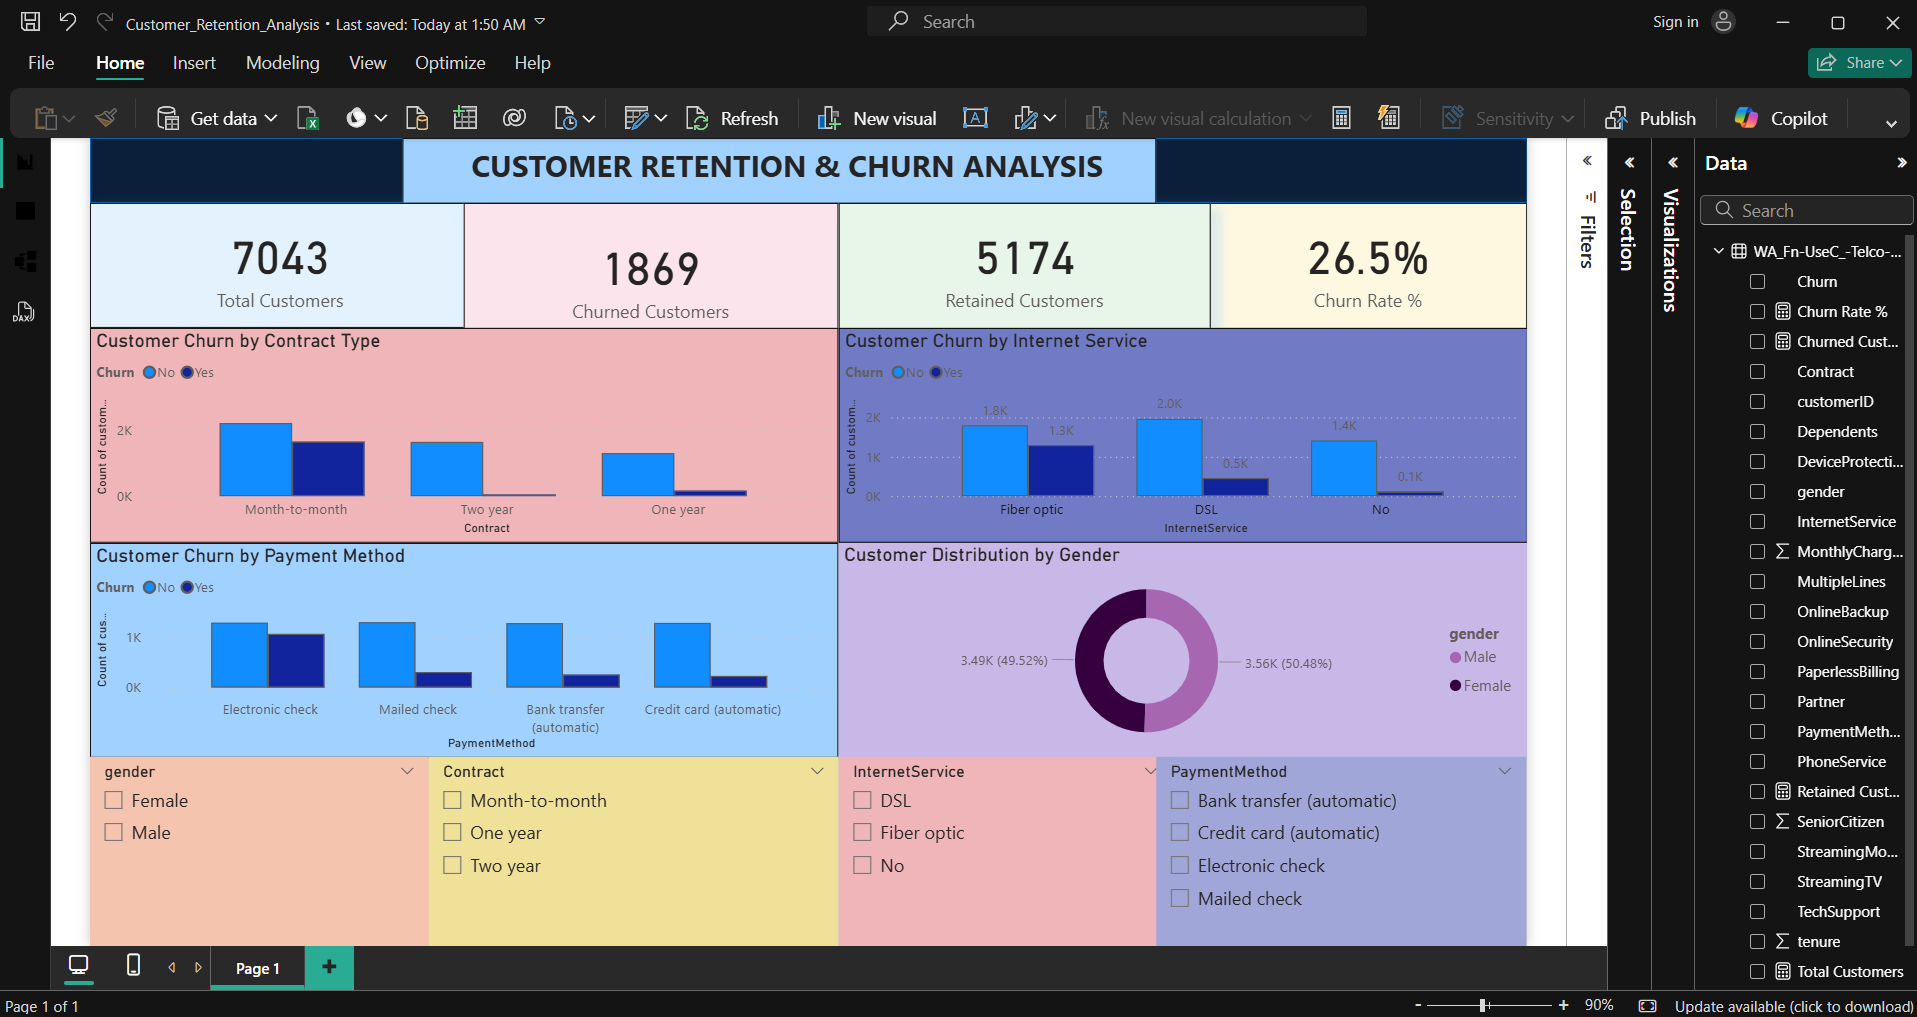

This screenshot's page, from the dashboard's own definition file:
{"tool":"powerbi","page":{"name":"Page 1","canvas":[1280,720],"ordinal":0},"visuals":[{"type":"shape","box":[0,0,1280.2,58.1],"z":0},{"type":"textbox","box":[277.9,0,670.9,58.1],"z":1000},{"type":"card","fields":{"Values":["WA_Fn-UseC_-Telco-Customer-Churn (2).Total Customers"]},"box":[0,57.9,339.5,111.3],"z":2000},{"type":"card","title":" ","fields":{"Values":["WA_Fn-UseC_-Telco-Customer-Churn (2).Churned Customers"]},"box":[332.6,57.6,333.8,111.7],"z":3000},{"type":"card","fields":{"Values":["WA_Fn-UseC_-Telco-Customer-Churn (2).Churn Rate %"]},"box":[997.8,57.6,282.2,111.7],"z":4000},{"type":"card","fields":{"Values":["WA_Fn-UseC_-Telco-Customer-Churn (2).Retained Customers"]},"box":[666.4,57.6,331.4,111.7],"z":5000},{"type":"clusteredColumnChart","title":"Customer Churn by Contract Type","fields":{"Category":["WA_Fn-UseC_-Telco-Customer-Churn (2).Contract"],"Y":["CountNonNull(WA_Fn-UseC_-Telco-Customer-Churn (2).customerID)"],"Series":["WA_Fn-UseC_-Telco-Customer-Churn (2).Churn"]},"box":[0,169.3,666.4,190.9],"z":6000},{"type":"clusteredColumnChart","title":"Customer Churn by Internet Service","fields":{"Category":["WA_Fn-UseC_-Telco-Customer-Churn (2).InternetService"],"Y":["CountNonNull(WA_Fn-UseC_-Telco-Customer-Churn (2).customerID)"],"Series":["WA_Fn-UseC_-Telco-Customer-Churn (2).Churn"]},"box":[666.4,169.3,613.6,190.9],"z":7000},{"type":"clusteredColumnChart","title":"Customer Churn by Payment Method","fields":{"Category":["WA_Fn-UseC_-Telco-Customer-Churn (2).PaymentMethod"],"Y":["CountNonNull(WA_Fn-UseC_-Telco-Customer-Churn (2).customerID)"],"Series":["WA_Fn-UseC_-Telco-Customer-Churn (2).Churn"]},"box":[0,360.2,666.4,190.9],"z":8000},{"type":"donutChart","title":"Customer Distribution by Gender","fields":{"Category":["WA_Fn-UseC_-Telco-Customer-Churn (2).gender"],"Y":["CountNonNull(WA_Fn-UseC_-Telco-Customer-Churn (2).customerID)"]},"box":[666.4,360.2,613.6,190.9],"z":9000},{"type":"slicer","fields":{"Values":["WA_Fn-UseC_-Telco-Customer-Churn (2).gender"]},"box":[0,551,301.7,169.2],"z":10000},{"type":"slicer","fields":{"Values":["WA_Fn-UseC_-Telco-Customer-Churn (2).Contract"]},"box":[301.7,551,365.1,169.2],"z":11000},{"type":"slicer","fields":{"Values":["WA_Fn-UseC_-Telco-Customer-Churn (2).InternetService"]},"box":[666.8,551,297.2,169.2],"z":11001},{"type":"slicer","fields":{"Values":["WA_Fn-UseC_-Telco-Customer-Churn (2).PaymentMethod"]},"box":[949.5,551,329.5,169.2],"z":11002}]}

Visuals, with their boxes on the page's 1280x720 design canvas (x1, y1, x2, y2). These are canvas units, not pixel positions in the 1917x1017 screenshot, which may show the page scaled, cropped or inside an application window:
shape: pyautogui.locateOnScreen(0, 0, 1280, 58)
textbox: pyautogui.locateOnScreen(278, 0, 949, 58)
card - WA_Fn-UseC_-Telco-Customer-Churn (2).Total Customers: pyautogui.locateOnScreen(0, 58, 340, 169)
" " card: pyautogui.locateOnScreen(333, 58, 666, 169)
card - WA_Fn-UseC_-Telco-Customer-Churn (2).Churn Rate %: pyautogui.locateOnScreen(998, 58, 1280, 169)
card - WA_Fn-UseC_-Telco-Customer-Churn (2).Retained Customers: pyautogui.locateOnScreen(666, 58, 998, 169)
"Customer Churn by Contract Type" clusteredColumnChart: pyautogui.locateOnScreen(0, 169, 666, 360)
"Customer Churn by Internet Service" clusteredColumnChart: pyautogui.locateOnScreen(666, 169, 1280, 360)
"Customer Churn by Payment Method" clusteredColumnChart: pyautogui.locateOnScreen(0, 360, 666, 551)
"Customer Distribution by Gender" donutChart: pyautogui.locateOnScreen(666, 360, 1280, 551)
slicer - WA_Fn-UseC_-Telco-Customer-Churn (2).gender: pyautogui.locateOnScreen(0, 551, 302, 720)
slicer - WA_Fn-UseC_-Telco-Customer-Churn (2).Contract: pyautogui.locateOnScreen(302, 551, 667, 720)
slicer - WA_Fn-UseC_-Telco-Customer-Churn (2).InternetService: pyautogui.locateOnScreen(667, 551, 964, 720)
slicer - WA_Fn-UseC_-Telco-Customer-Churn (2).PaymentMethod: pyautogui.locateOnScreen(950, 551, 1279, 720)
